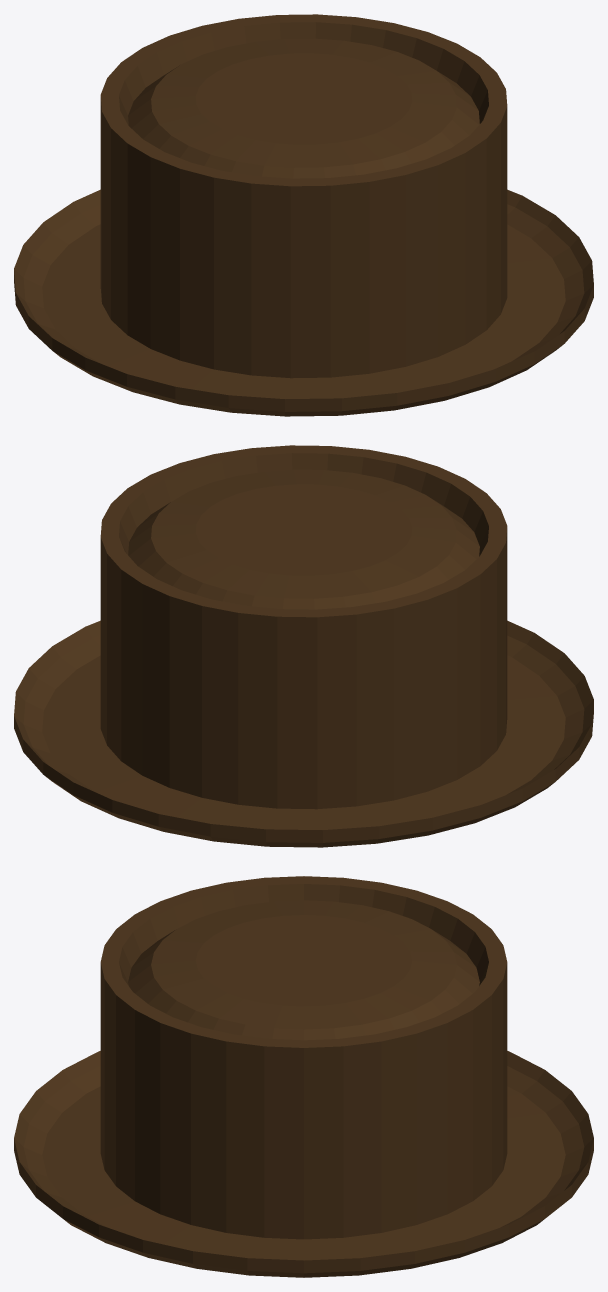
The model's file is porkpiehat.fbx.
3 renders of one model, top to bottom at view 1: azimuth 30°, elevation 25°; view 2: azimuth 150°, elevation 25°; view 3: azimuth 270°, elevation 25°, orthographic.
Parts seen in each view (by area): view 1: Circle; view 2: Circle; view 3: Circle.
Part boxes in pixels (bbox=[...]): Circle: bbox=[14, 14, 593, 416]; Circle: bbox=[14, 445, 593, 847]; Circle: bbox=[14, 876, 593, 1277].
Bounding box in the file's own units: 422 × 167 × 422.
